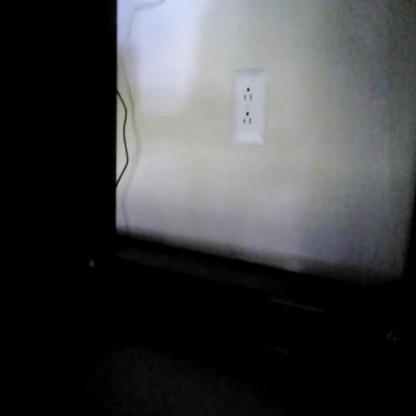OUTLET: (233, 73, 266, 144)
